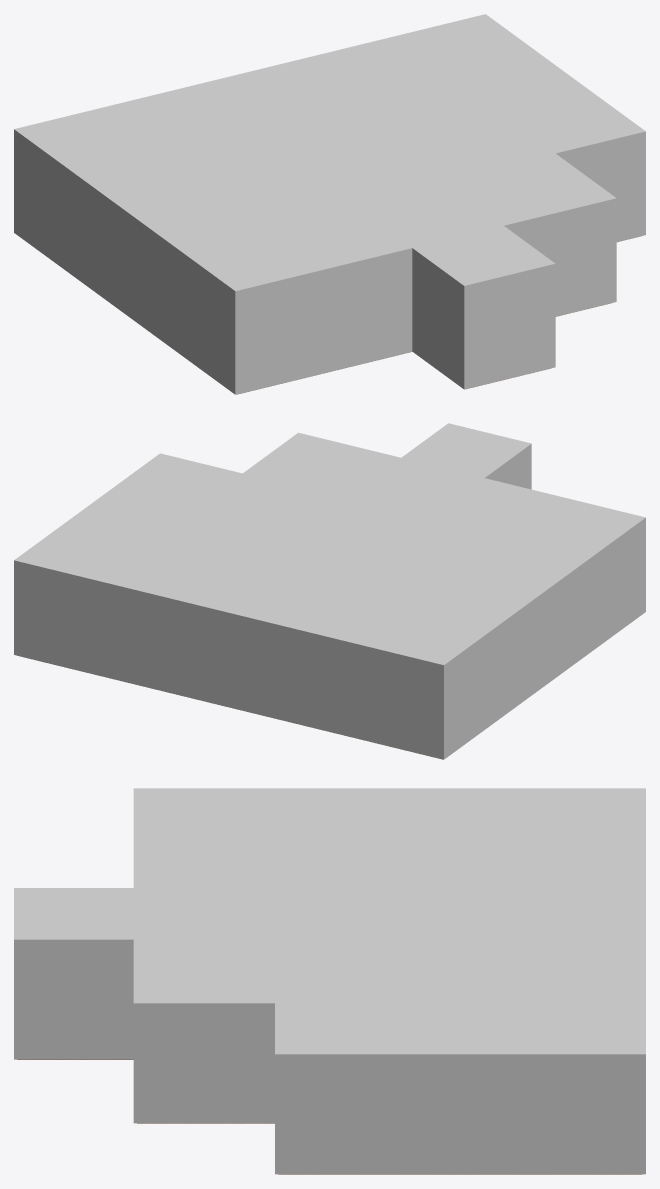
The model's file is Pis.glb.
The picture shows the model from 3 angles, top to bottom: view 1: azimuth 30°, elevation 25°; view 2: azimuth 150°, elevation 25°; view 3: azimuth 270°, elevation 25°; orthographic projection. The views are drawn at different scales.
Visible parts, largest first — view 1: Sostre, Parets; view 2: Sostre, Parets; view 3: Sostre, Parets.
Part boxes in pixels (<box>): Sostre: <box>14,14,645,293</box>; Parets: <box>14,132,645,394</box>; Sostre: <box>14,423,645,667</box>; Parets: <box>14,446,645,759</box>; Sostre: <box>14,788,645,1057</box>; Parets: <box>14,942,645,1174</box>.
Bounding box in the file's own units: 9.76 × 2.08 × 9.8.
Materials: 2 (1 with a texture image).
